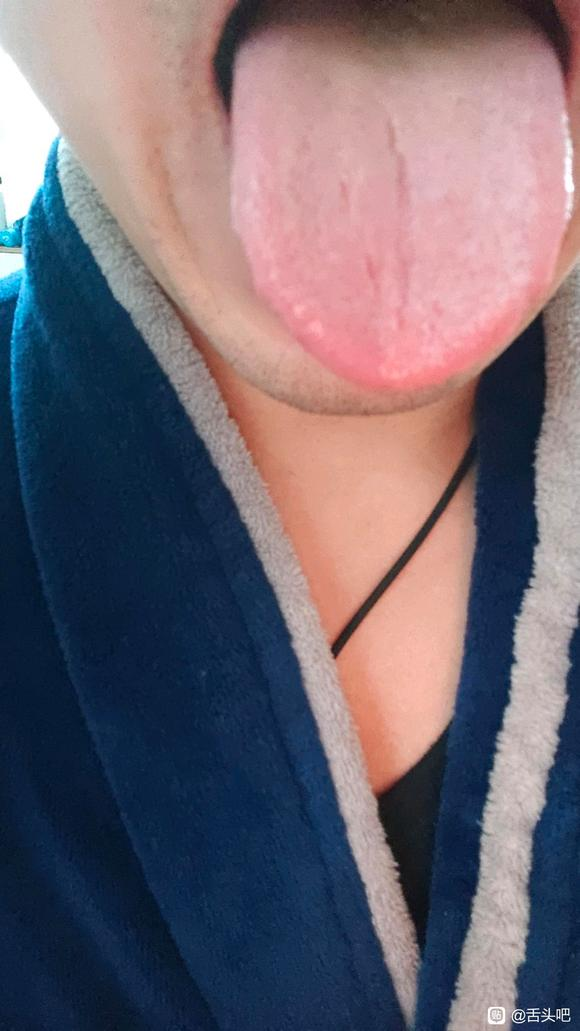baitaishe: (231, 1, 574, 390)
chihenshe: (231, 229, 301, 347)
liewenshe: (333, 109, 415, 334)
